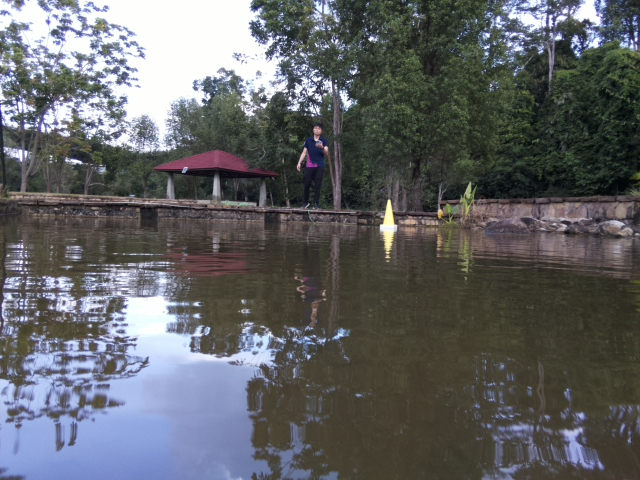checkpoint: (379, 198, 398, 230)
